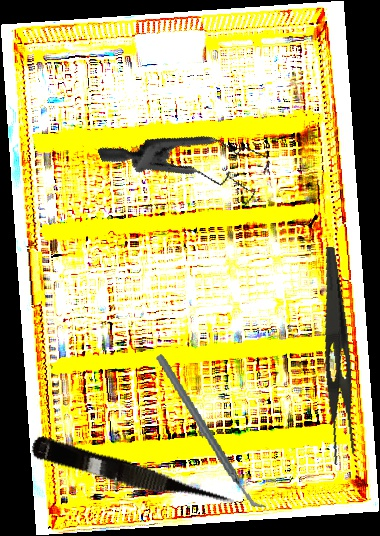Chopper: (155, 341, 267, 524)
Dressing Forceps: (300, 246, 367, 466)
Micro Scissor: (28, 434, 240, 520)
Speculum: (96, 86, 283, 253)
